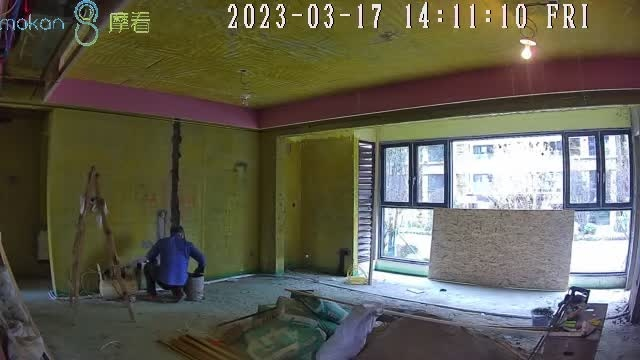people: (144, 226, 206, 301)
window: (382, 132, 632, 276)
